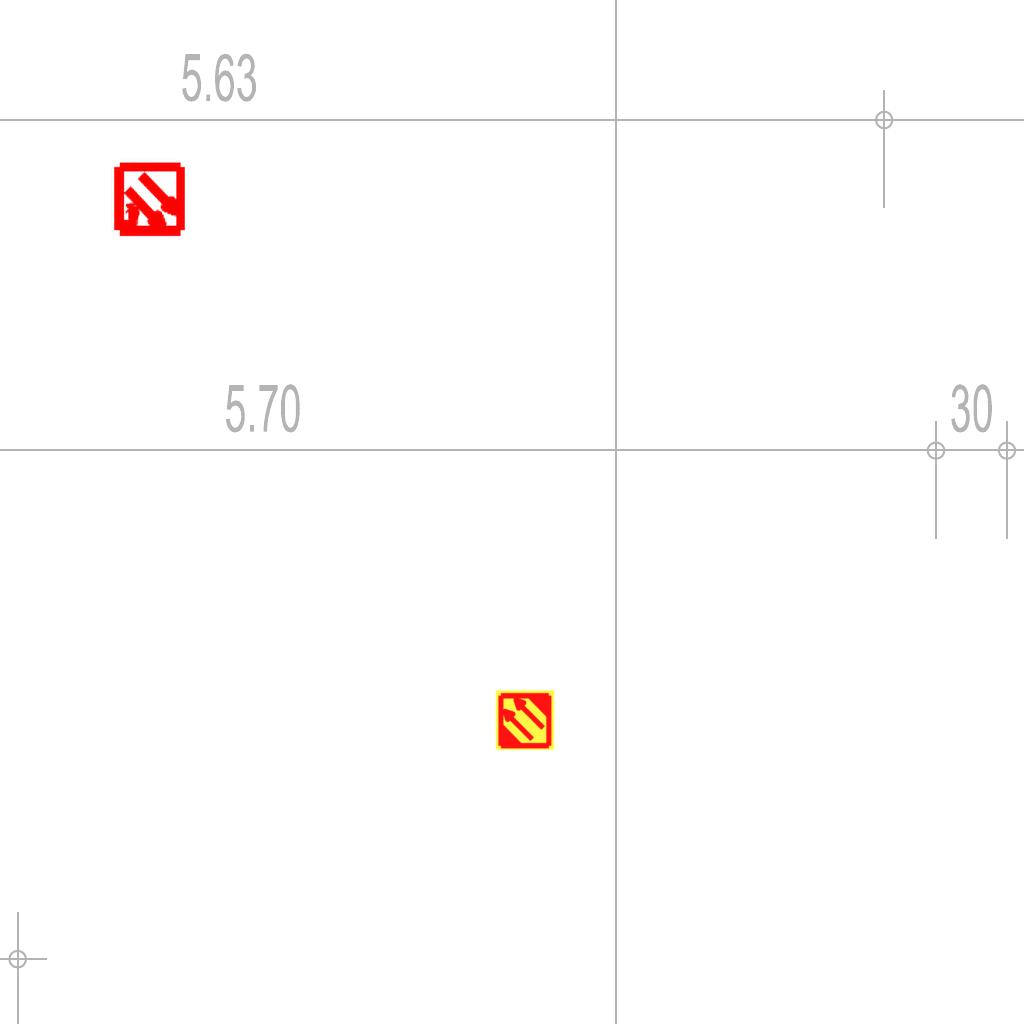ASR_Ansaugrauchmelder: (494, 689, 556, 751)
OT_Multisensormelder_(Kombination_RMO_WMD): (93, 145, 206, 258)
